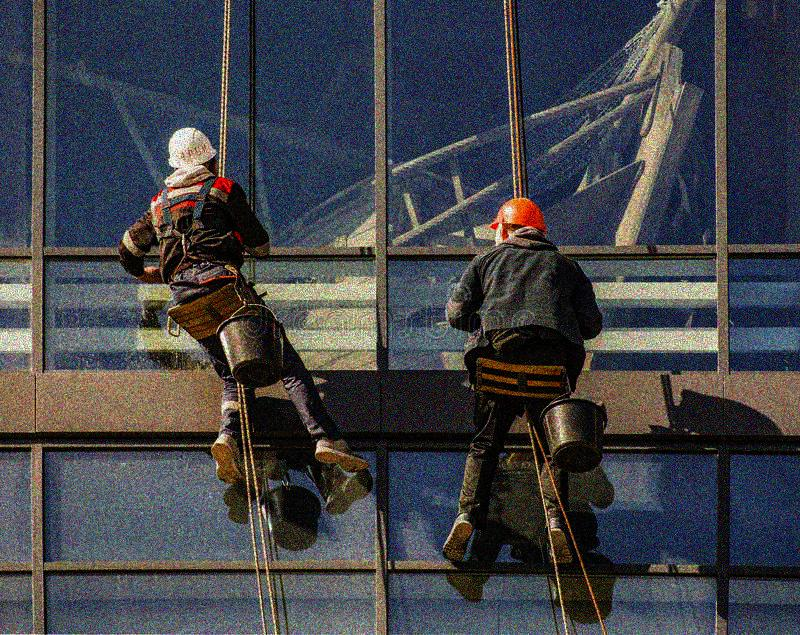helmet: (487, 194, 547, 247), (168, 125, 221, 180)
